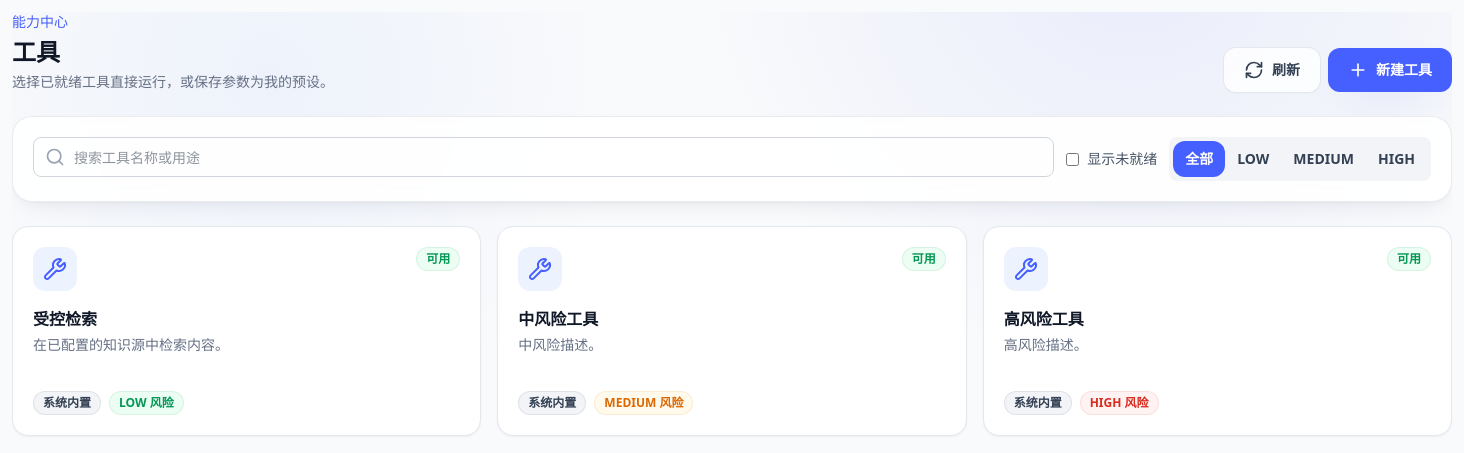
it: capabilities page › filters tools by risk classification
Expected: the text "受控检索" is shown, x1=33 y1=308 x2=97 y2=330
Expected: the text "中风险工具" is shown, x1=518 y1=308 x2=598 y2=330
Step 1. Click the button "HIGH" → (1396, 159), box x1=1366 y1=141 x2=1427 y2=177
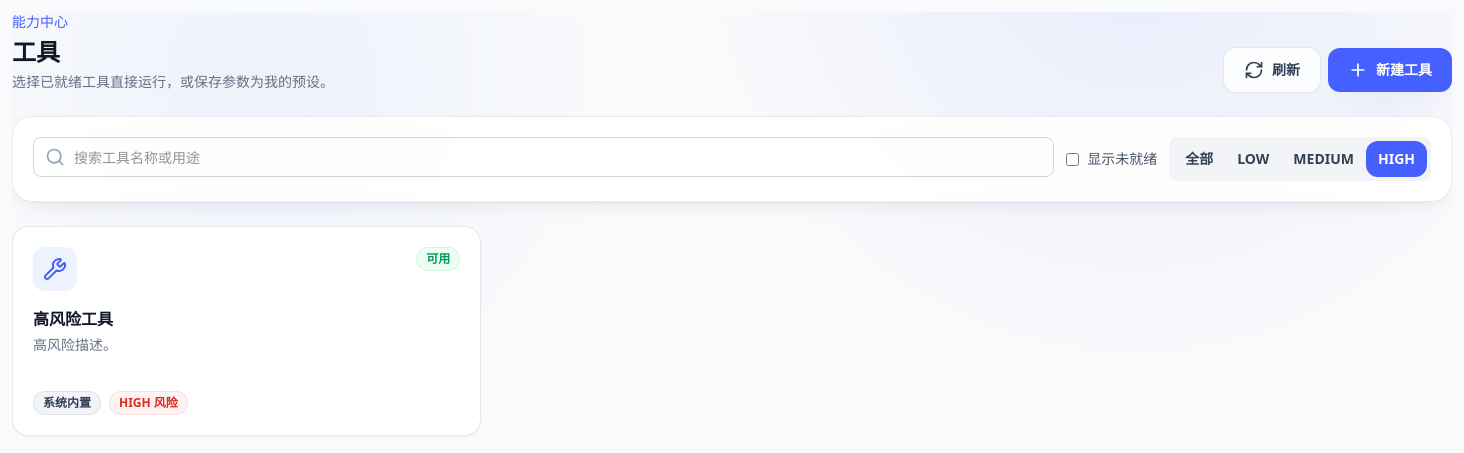
Expected: the text "高风险工具" is shown, x1=33 y1=308 x2=113 y2=330
Expected: the button "受控检索" is gone
Expected: the button "中风险工具" is gone
Step 2. Click the button "LOW" → (1253, 159), box x1=1225 y1=141 x2=1281 y2=177
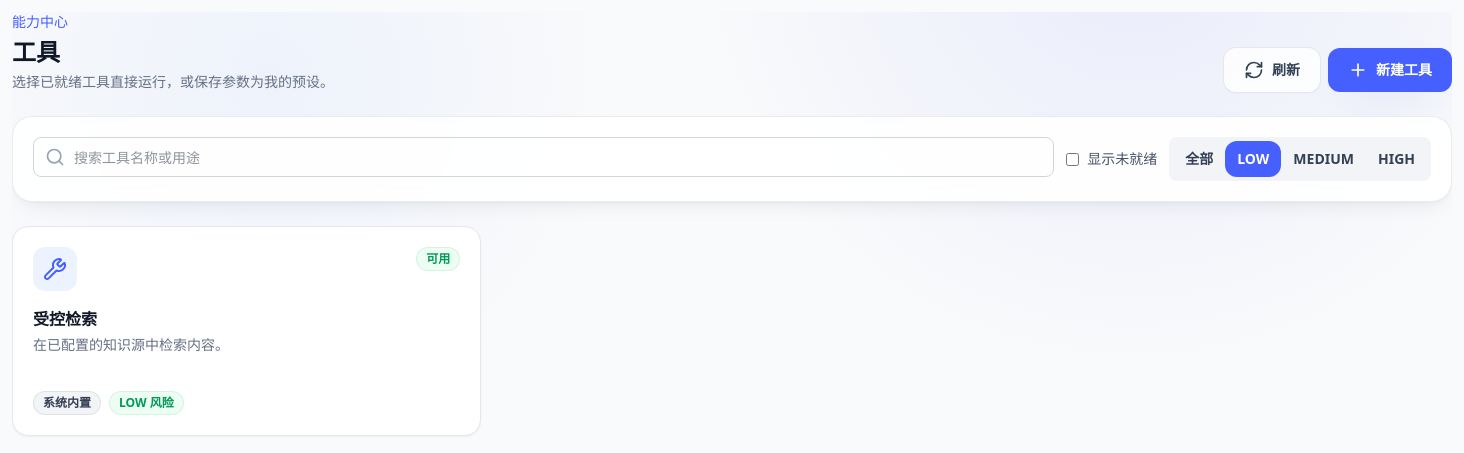
Expected: the button "中风险工具" is not shown
Expected: the text "受控检索" is shown, x1=33 y1=308 x2=97 y2=330
Expected: the button "高风险工具" is gone
Step 3. Click the button "全部" → (1199, 159), box x1=1173 y1=141 x2=1225 y2=177
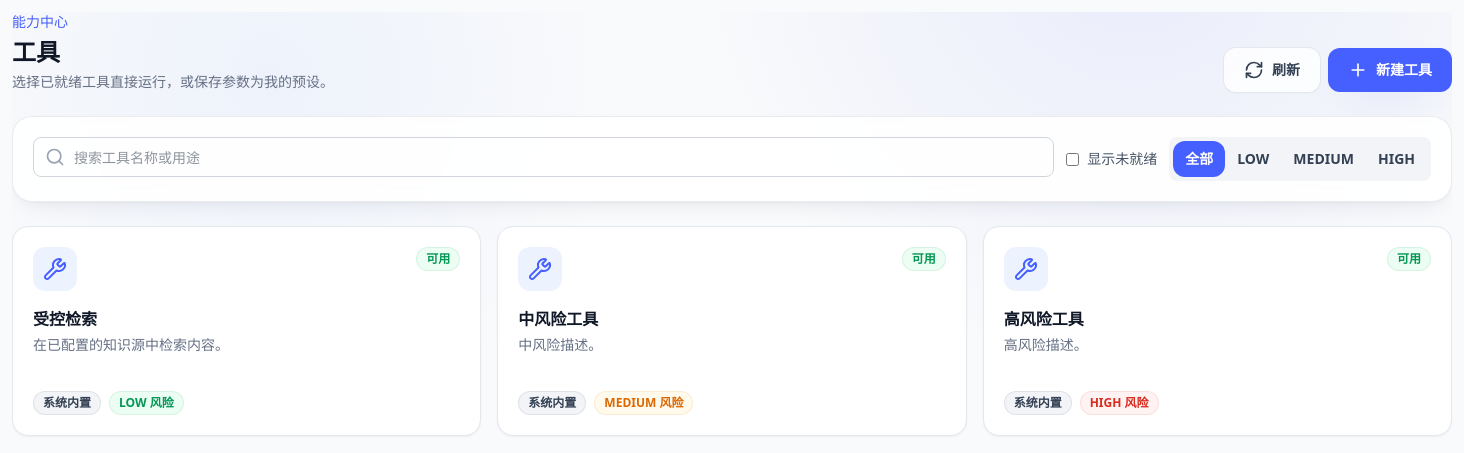
Expected: the text "受控检索" is shown, x1=33 y1=308 x2=97 y2=330
Expected: the text "中风险工具" is shown, x1=518 y1=308 x2=598 y2=330
Expected: the text "高风险工具" is shown, x1=1004 y1=308 x2=1084 y2=330
